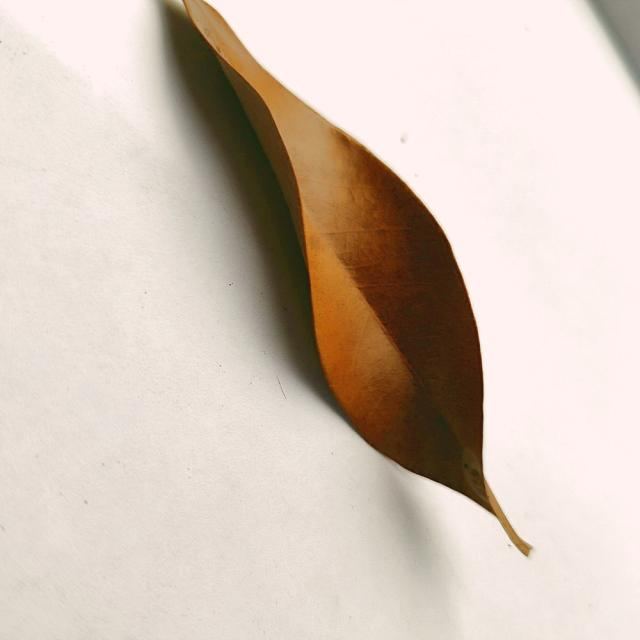Dry_Leaf-Lychee: (168, 0, 534, 557)
